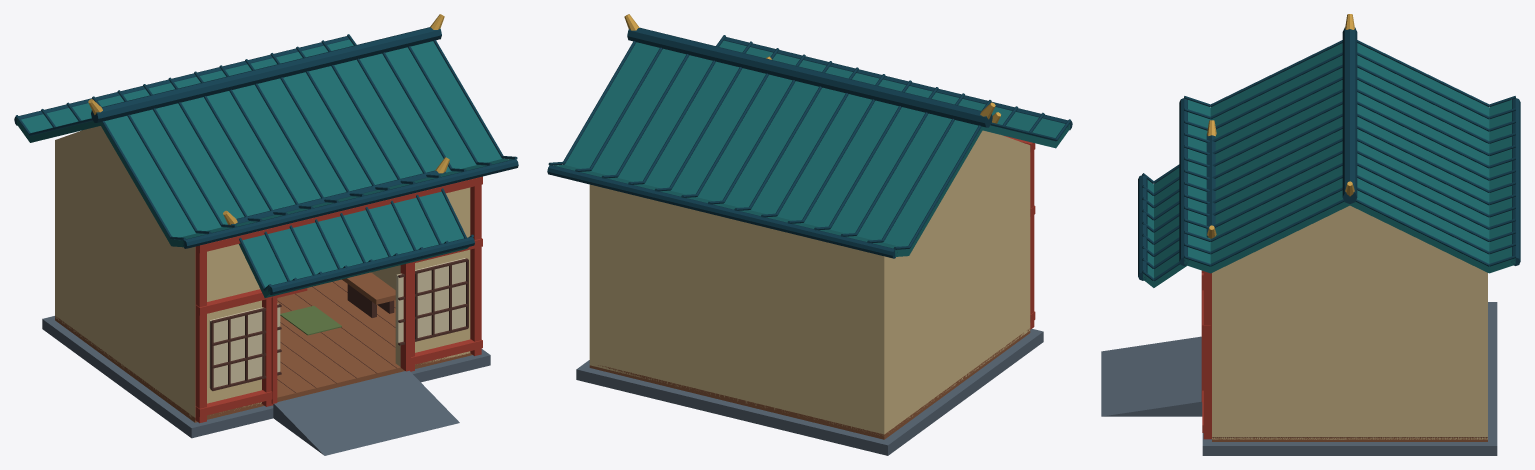
The model's file is shrine.glb.
3 views of the same model, side by side, from view 1: azimuth 30°, elevation 25°; view 2: azimuth 150°, elevation 25°; view 3: azimuth 270°, elevation 25° (orthographic). The views are drawn at different scales.
Visible parts, largest first — view 1: CP_Roof, CP_Wall_Front, CP_Floor, CP_Wall_Left, CP_Interior, CP_Wall_Back; view 2: CP_Roof, CP_Wall_Back, CP_Wall_Left, CP_Floor, CP_Wall_Front; view 3: CP_Roof, CP_Wall_Right, CP_Floor, CP_Wall_Back, CP_Wall_Front.
Part boxes in pixels (x1,y1,x2,y2): CP_Roof: (14, 14, 518, 297); CP_Wall_Front: (189, 176, 482, 423); CP_Floor: (42, 279, 490, 455); CP_Wall_Left: (55, 141, 195, 417); CP_Interior: (277, 272, 395, 335); CP_Wall_Back: (55, 140, 60, 320); CP_Roof: (547, 14, 1072, 258); CP_Wall_Back: (589, 184, 890, 435); CP_Wall_Left: (874, 145, 1030, 435); CP_Floor: (576, 328, 1043, 455); CP_Wall_Front: (1004, 136, 1035, 334); CP_Roof: (1138, 14, 1520, 287); CP_Wall_Right: (1212, 264, 1487, 439); CP_Floor: (1101, 302, 1497, 455); CP_Wall_Back: (1477, 268, 1487, 439); CP_Wall_Front: (1201, 270, 1211, 439).
Size of the model in its own units: 8.8 by 6.86 by 9.11.
